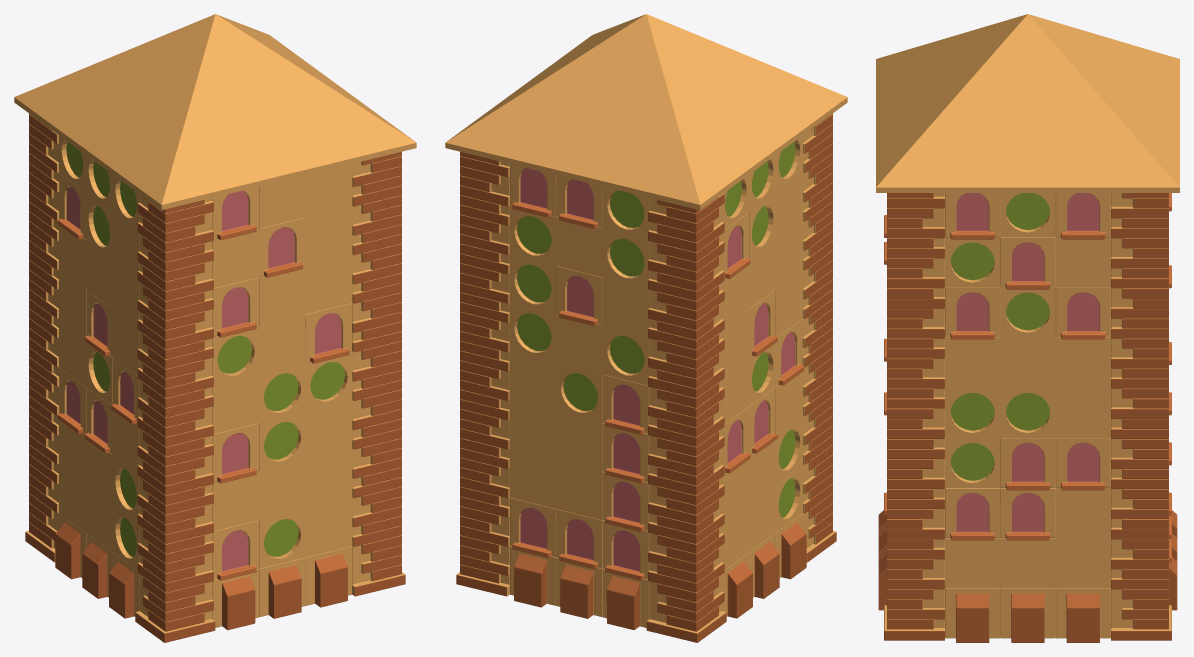
File: house v3.006.fbx
3 renders of one model, left to right at view 1: azimuth 30°, elevation 25°; view 2: azimuth 150°, elevation 25°; view 3: azimuth 270°, elevation 25°, orthographic. The views are drawn at different scales.
Parts seen in each view (by area): view 1: House; view 2: House; view 3: House.
Boxes of the visible parts, x1,y1,x2,y2 form: House: [14, 14, 416, 642]; House: [445, 14, 847, 642]; House: [876, 14, 1179, 642].
Size of the model in its own units: 549 by 1129 by 549.
